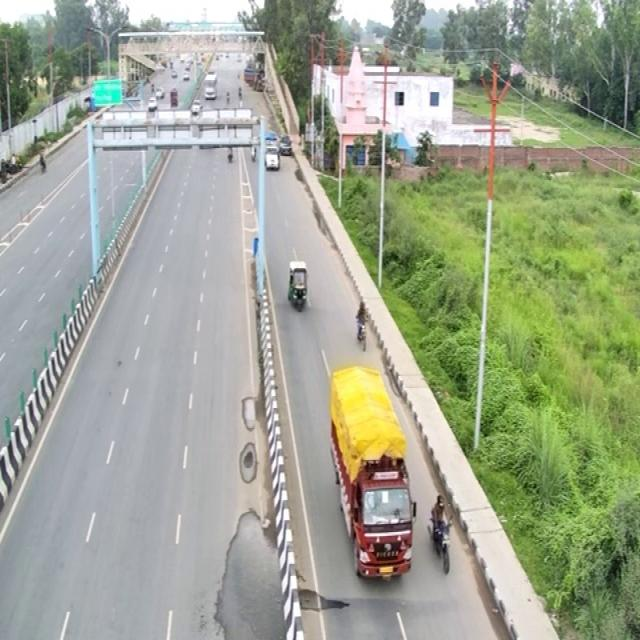car: (283, 255, 315, 313)
